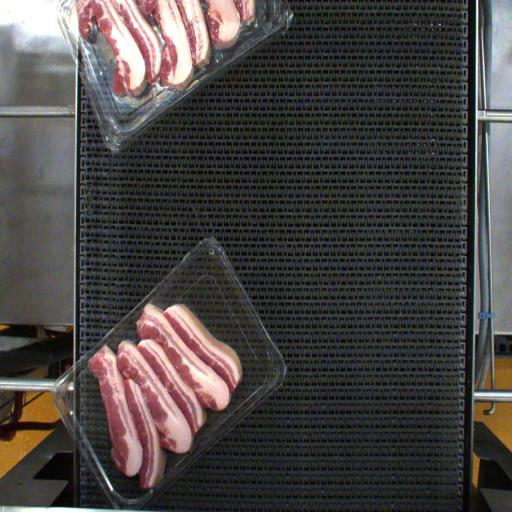packaging-error: (79, 335, 120, 373), (128, 295, 164, 327)
